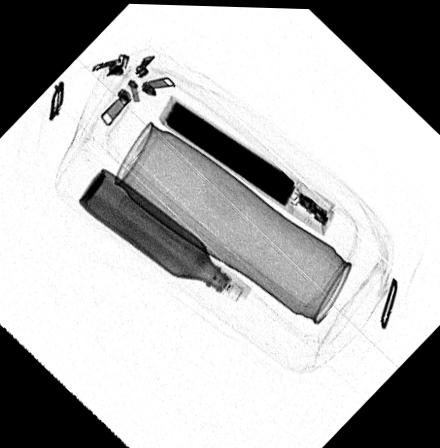Powerbank: (156, 95, 334, 234)
